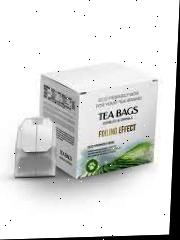cube: (41, 65, 162, 177)
